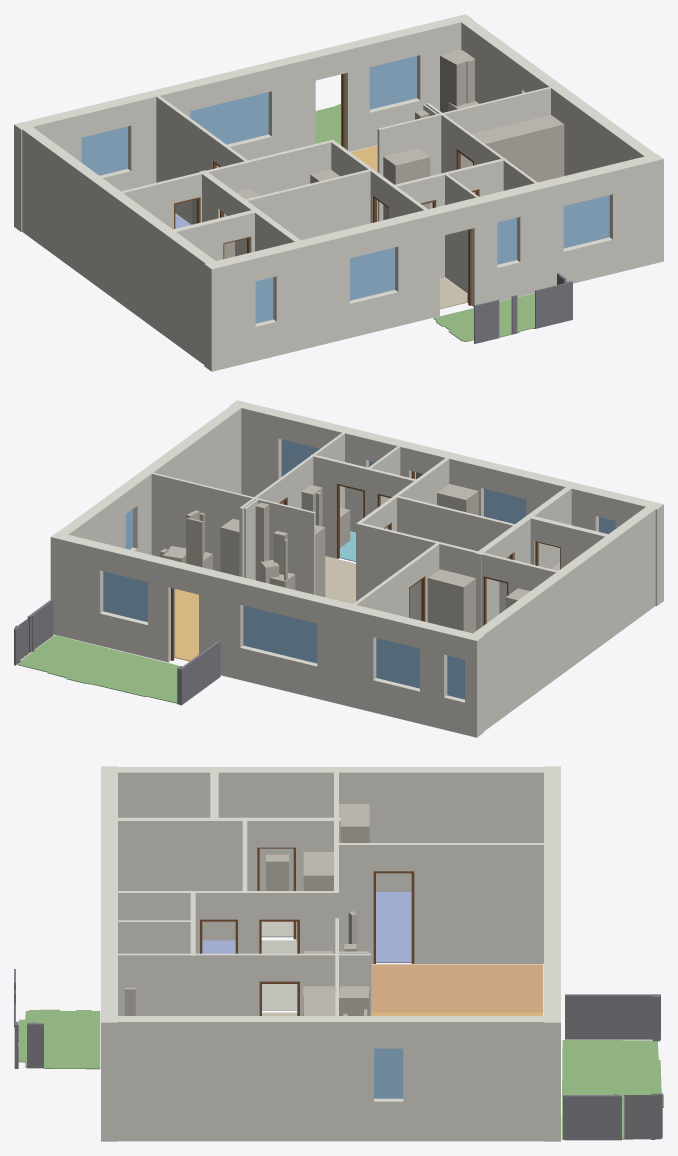
3 renders of one model, top to bottom at view 1: azimuth 30°, elevation 25°; view 2: azimuth 150°, elevation 25°; view 3: azimuth 270°, elevation 25°, orthographic. The views are drawn at different scales.
Visible parts, largest first — view 1: walls, furniture_10_closet, railings, window_6, window_3, window_1, floor_12_Outdoor, window_2, window_4, furniture_0_closet, furniture_13_closet, floor_11_Outdoor (+3 smaller); view 2: walls, floor_11_Outdoor, railings, window_6, furniture_3_closet, window_3, window_4, floor_2_Kitchen, floor_3_Entry, window_2, furniture_4_closet, furniture_39_chimney (+5 smaller); view 3: walls, railings, floor_1_Living_Room, floor_11_Outdoor, floor_12_Outdoor, floor_0_Bed_Room, window_8, floor_6_Undefined, furniture_11_closet, furniture_2_closet, furniture_10_closet, furniture_4_closet (+4 smaller).
Part boxes in pixels (x1,y1,x2,y2): walls: [14, 14, 663, 371]; furniture_10_closet: [460, 114, 564, 182]; railings: [474, 273, 572, 343]; window_6: [190, 92, 268, 144]; window_3: [369, 56, 416, 109]; window_1: [563, 195, 609, 248]; floor_12_Outdoor: [433, 293, 534, 341]; window_2: [350, 247, 394, 300]; window_4: [81, 126, 127, 175]; furniture_0_closet: [440, 49, 474, 112]; furniture_13_closet: [383, 148, 430, 219]; floor_11_Outdoor: [315, 104, 340, 144]; walls: [50, 400, 663, 737]; floor_11_Outdoor: [18, 635, 179, 703]; railings: [14, 472, 423, 705]; window_6: [243, 605, 317, 663]; furniture_3_closet: [427, 569, 475, 633]; window_3: [103, 571, 147, 621]; window_4: [376, 638, 419, 688]; floor_2_Kitchen: [175, 589, 198, 661]; floor_3_Entry: [325, 556, 355, 603]; window_2: [484, 489, 526, 523]; furniture_4_closet: [220, 518, 239, 576]; furniture_39_chimney: [255, 502, 269, 581]; walls: [101, 766, 560, 1141]; railings: [14, 969, 662, 1140]; floor_1_Living_Room: [371, 964, 543, 1012]; floor_11_Outdoor: [561, 1040, 663, 1139]; floor_12_Outdoor: [18, 1009, 100, 1069]; floor_0_Bed_Room: [376, 892, 411, 962]; window_8: [374, 1048, 403, 1098]; floor_6_Undefined: [261, 940, 297, 1010]; furniture_11_closet: [303, 852, 333, 890]; furniture_2_closet: [339, 804, 369, 842]; furniture_10_closet: [303, 986, 335, 1015]; furniture_4_closet: [339, 986, 369, 1015].
Size of the model in its own units: 12.47 by 2.72 by 13.36.
